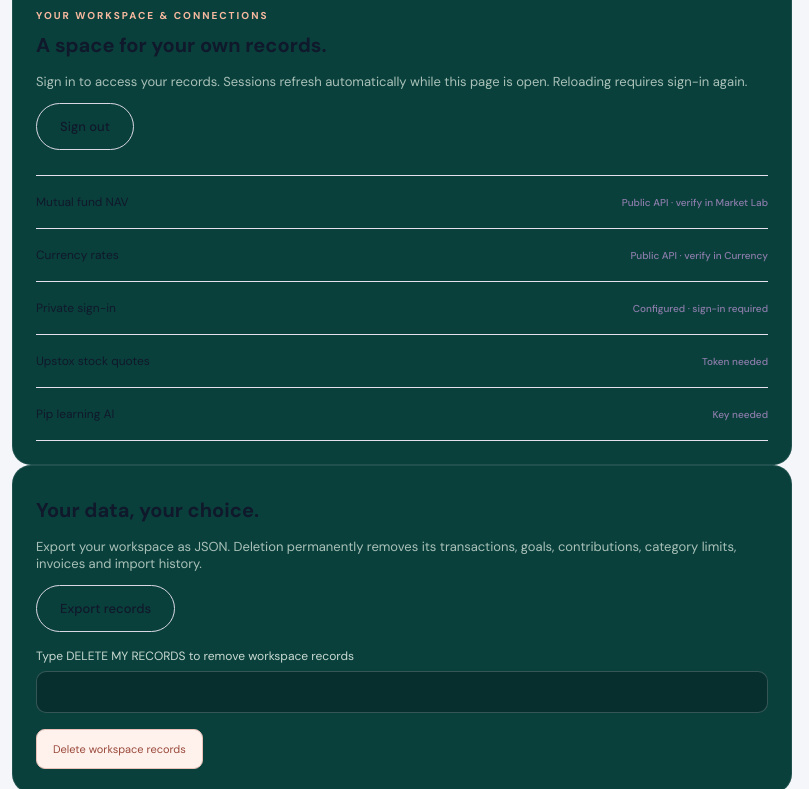
it: signs out through the provider
Click the button "Sign out" at (85, 126), box [36,103,134,150]
(page scrolled)
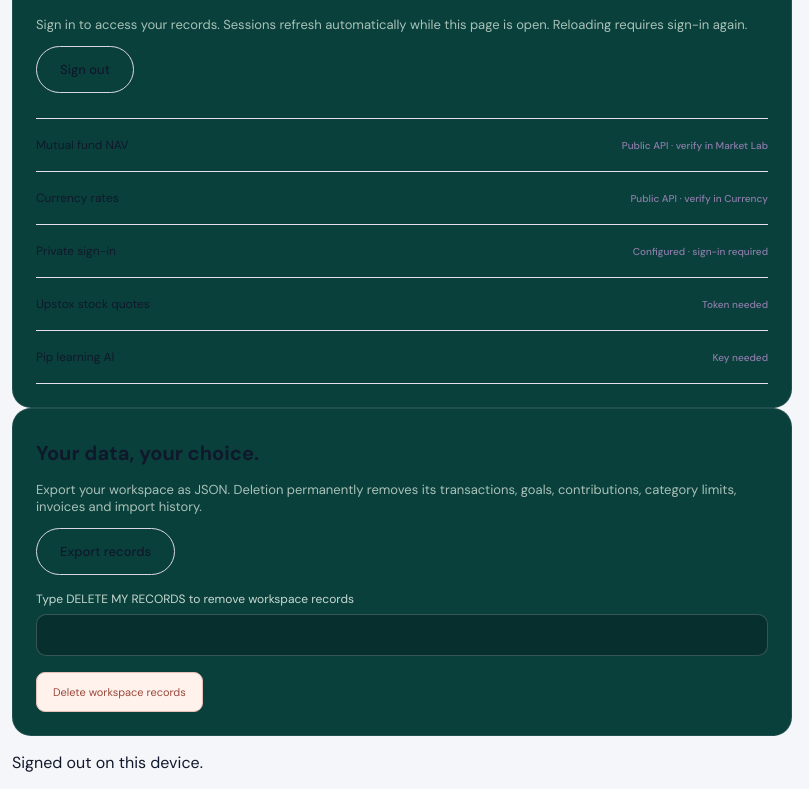
Now the text "Signed out on this device." is shown, box [12,752,203,773]
